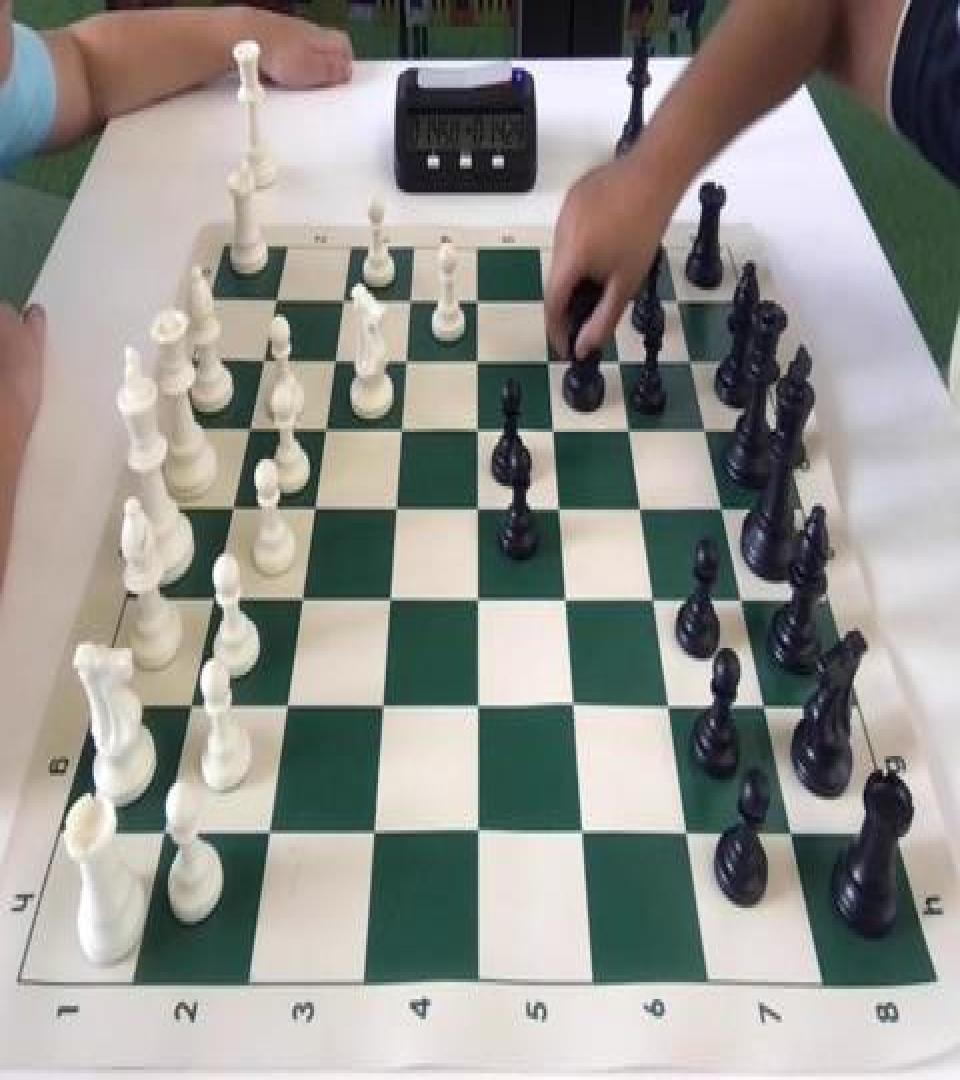xcorner: (691, 408, 717, 453), (615, 408, 641, 453), (539, 408, 565, 453), (463, 408, 489, 453), (387, 408, 413, 453), (311, 408, 337, 453), (235, 408, 261, 453), (664, 278, 690, 322), (597, 278, 623, 322), (530, 278, 556, 322), (463, 278, 489, 322), (396, 278, 422, 322), (329, 278, 355, 322), (262, 278, 288, 322), (677, 339, 703, 383), (606, 339, 632, 383), (535, 339, 561, 383), (463, 339, 489, 383), (392, 339, 418, 383), (321, 339, 347, 383), (250, 339, 276, 383), (708, 486, 734, 530), (627, 486, 653, 530), (545, 486, 571, 530), (464, 486, 490, 530), (382, 486, 408, 530), (300, 486, 326, 530), (219, 486, 245, 530), (727, 577, 753, 621), (639, 577, 665, 621), (552, 577, 578, 621), (464, 577, 490, 621), (376, 577, 402, 621), (288, 577, 314, 621), (200, 577, 226, 621), (750, 684, 776, 728), (655, 684, 681, 728), (559, 684, 585, 728), (464, 684, 490, 728), (369, 684, 395, 728), (273, 684, 299, 728), (178, 684, 204, 728), (776, 808, 802, 852), (672, 808, 698, 852), (568, 808, 594, 852), (464, 808, 490, 852), (360, 808, 386, 852), (256, 808, 282, 852), (151, 808, 177, 852)
